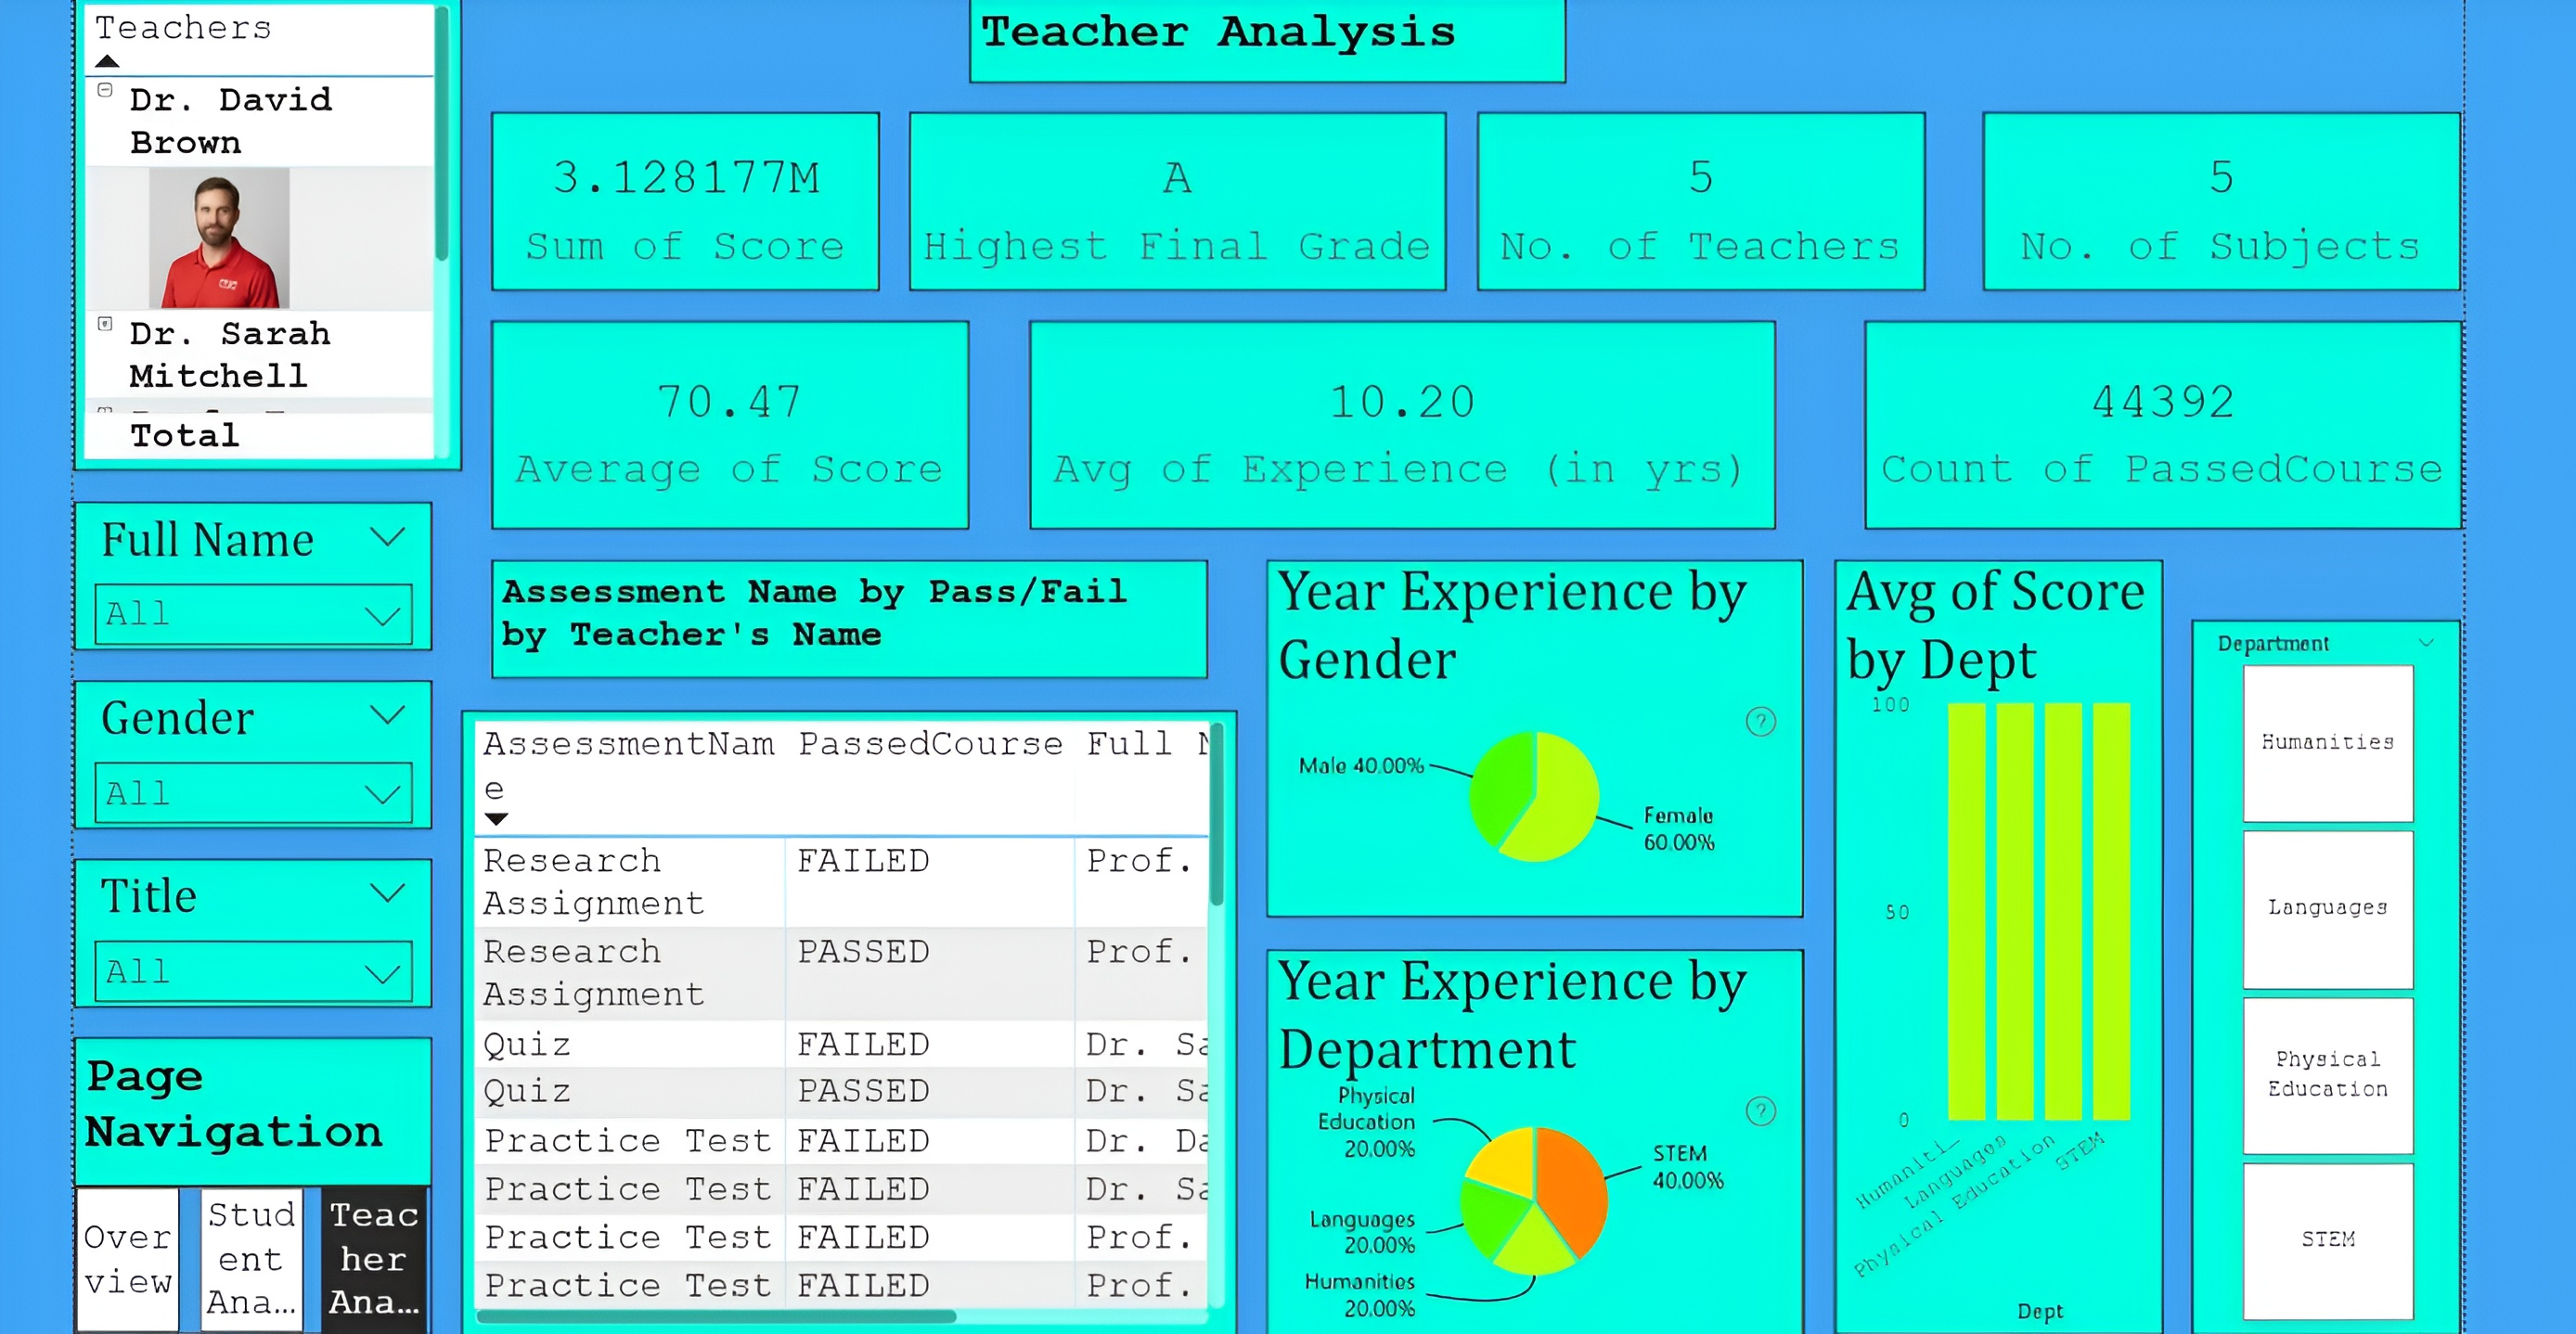

This screenshot's page, from the dashboard's own definition file:
{"tool":"powerbi","page":{"name":"Teacher Analysis","canvas":[1280,720],"ordinal":2},"visuals":[{"type":"card","fields":{"Values":["Count(Sheet1 (3).SubjectSpecialty)"]},"box":[1024,64,256,96],"z":0},{"type":"card","fields":{"Values":["Count(Sheet1 (3).TeacherID)"]},"box":[752,64,240,96],"z":1000},{"type":"card","fields":{"Values":["Avg(Sheet1 (3).YearsExperience)"]},"box":[512,176,400,112],"z":2000},{"type":"slicer","fields":{"Values":["Sheet1 (3).Gender"]},"box":[0,368,192,80],"z":3000},{"type":"tableEx","fields":{"Values":["Sheet1 (2).AssessmentName","Sheet1 (4).PassedCourse","Sheet1 (3).Full Name"]},"box":[208,384,416,336],"z":4000},{"type":"slicer","fields":{"Values":["Sheet1 (3).Department"]},"box":[1136,336,144,384],"z":5000},{"type":"slicer","fields":{"Values":["Sheet1 (3).Title"]},"box":[0,464,192,80],"z":6000},{"type":"slicer","fields":{"Values":["Sheet1 (3).Full Name"]},"box":[0,272,192,80],"z":7000},{"type":"pivotTable","fields":{"Rows":["Sheet1 (3).Full Name","Sheet1 (3).Direct Image URL (Power BI Ready)"]},"box":[0,0,208,256],"z":8000},{"type":"card","fields":{"Values":["CountNonNull(Sheet1 (4).PassedCourse)"]},"box":[960,176,320,112],"z":9000},{"type":"card","fields":{"Values":["Min(Sheet1 (4).FinalGrade)"]},"box":[448,64,288,96],"z":10000},{"type":"card","fields":{"Values":["Avg(Sheet1 (4).Score)"]},"box":[224,176,256,112],"z":11000},{"type":"card","fields":{"Values":["Sum(Sheet1 (4).Score)"]},"box":[224,64,208,96],"z":12000},{"type":"ZoomChartsDrillDownPieProC062D62DA5CE45ECB95B7B1D0E5DA558","fields":{"Category":["Sheet1 (3).Gender"],"Values":["CountNonNull(Sheet1 (3).YearsExperience)"]},"box":[640,304,288,192],"z":13000},{"type":"ZoomChartsDrillDownPieProC062D62DA5CE45ECB95B7B1D0E5DA558","fields":{"Category":["Sheet1 (3).Department"],"Values":["CountNonNull(Sheet1 (3).YearsExperience)"]},"box":[640,512,288,208],"z":14000},{"type":"clusteredColumnChart","fields":{"Category":["Sheet1 (3).Department"],"Y":["Avg(Sheet1 (2).MaxScore)"]},"box":[944,304,176,416],"z":15000},{"type":"textbox","box":[480,0,320,48],"z":15001},{"type":"textbox","box":[0,560,192,80],"z":15002},{"type":"pageNavigator","box":[0,640,192,80],"z":15003},{"type":"textbox","box":[224,304,384,64],"z":15004}]}

Visuals, with their boxes in screenshot pixels (x1, y1, x2, y2):
card - Count(Sheet1 (3).SubjectSpecialty): (1946, 110, 2415, 286)
card - Count(Sheet1 (3).TeacherID): (1449, 110, 1887, 286)
card - Avg(Sheet1 (3).YearsExperience): (1010, 315, 1742, 519)
slicer - Sheet1 (3).Gender: (74, 666, 425, 813)
tableEx - Sheet1 (2).AssessmentName x Sheet1 (4).PassedCourse: (454, 695, 1215, 1309)
slicer - Sheet1 (3).Department: (2151, 608, 2415, 1309)
slicer - Sheet1 (3).Title: (74, 841, 425, 988)
slicer - Sheet1 (3).Full Name: (74, 491, 425, 636)
pivotTable - Sheet1 (3).Full Name x Sheet1 (3).Direct Image URL (Power BI Ready): (74, 0, 454, 461)
card - CountNonNull(Sheet1 (4).PassedCourse): (1829, 315, 2415, 519)
card - Min(Sheet1 (4).FinalGrade): (893, 110, 1420, 286)
card - Avg(Sheet1 (4).Score): (483, 315, 951, 519)
card - Sum(Sheet1 (4).Score): (483, 110, 864, 286)
ZoomChartsDrillDownPieProC062D62DA5CE45ECB95B7B1D0E5DA558 - Sheet1 (3).Gender x CountNonNull(Sheet1 (3).YearsExperience): (1244, 549, 1771, 900)
ZoomChartsDrillDownPieProC062D62DA5CE45ECB95B7B1D0E5DA558 - Sheet1 (3).Department x CountNonNull(Sheet1 (3).YearsExperience): (1244, 930, 1771, 1309)
clusteredColumnChart - Sheet1 (3).Department x Avg(Sheet1 (2).MaxScore): (1800, 549, 2121, 1309)
textbox: (951, 0, 1537, 81)
textbox: (74, 1017, 425, 1163)
pageNavigator: (74, 1163, 425, 1309)
textbox: (483, 549, 1186, 666)
